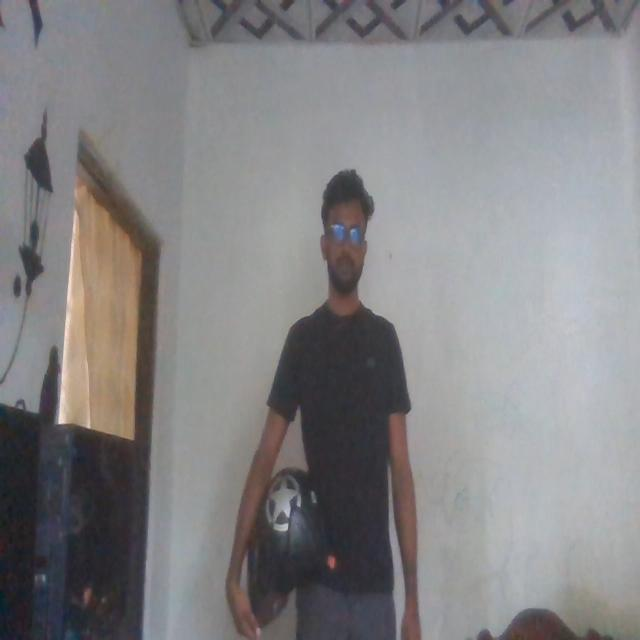Person: (244, 138, 423, 640)
